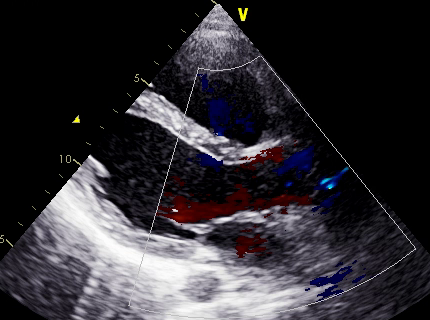AR: (185, 149, 318, 215)
